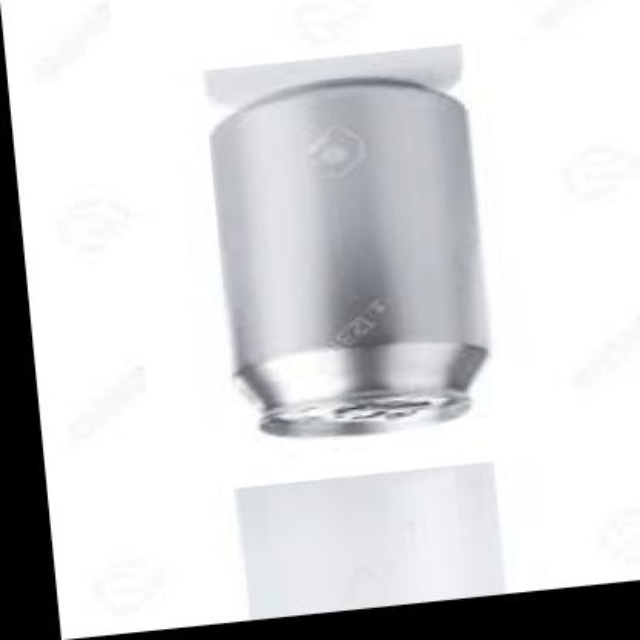trash: (206, 46, 486, 434)
